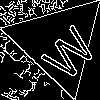W: (33, 18, 100, 84)
